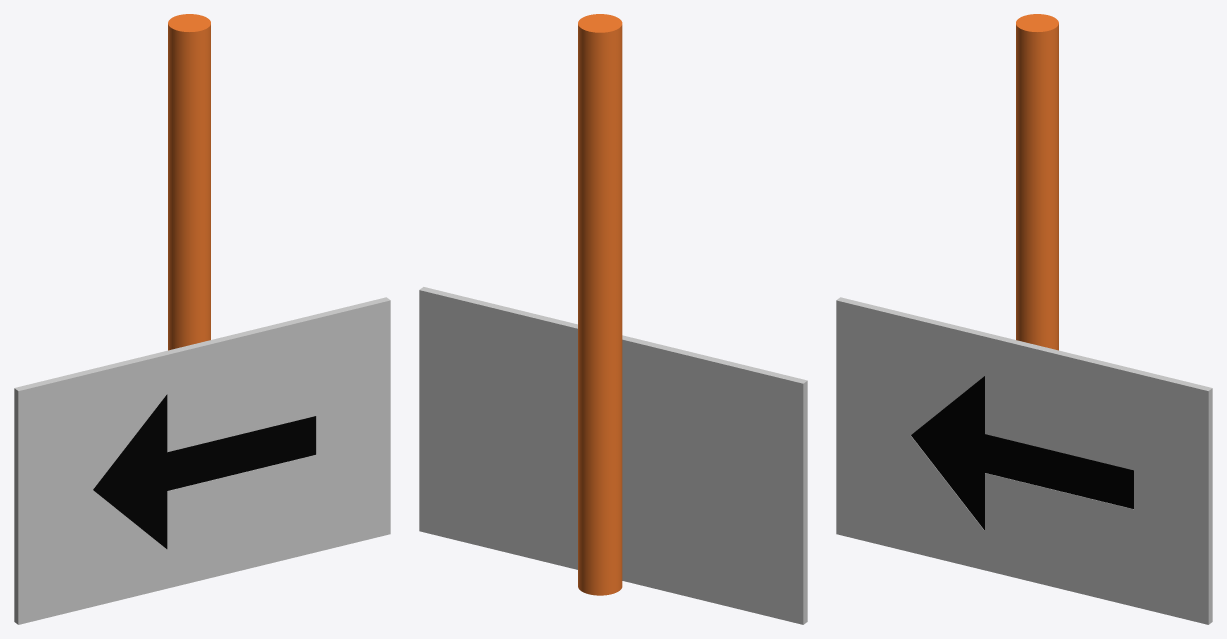
File: arrow.dae
3 renders of one model, left to right at view 1: azimuth 30°, elevation 25°; view 2: azimuth 150°, elevation 25°; view 3: azimuth 330°, elevation 25°, orthographic. The views are drawn at different scales.
Visible parts, largest first — view 1: node_16eac41b_cb2f_4d9d_aa4c_ac223b59d83c_mesh0, node_16eac41b_cb2f_4d9d_aa4c_ac223b59d83c_mesh2, node_16eac41b_cb2f_4d9d_aa4c_ac223b59d83c_mesh1; view 2: node_16eac41b_cb2f_4d9d_aa4c_ac223b59d83c_mesh0, node_16eac41b_cb2f_4d9d_aa4c_ac223b59d83c_mesh2; view 3: node_16eac41b_cb2f_4d9d_aa4c_ac223b59d83c_mesh0, node_16eac41b_cb2f_4d9d_aa4c_ac223b59d83c_mesh2, node_16eac41b_cb2f_4d9d_aa4c_ac223b59d83c_mesh1.
Part boxes in pixels (x1,y1,x2,y2): node_16eac41b_cb2f_4d9d_aa4c_ac223b59d83c_mesh0: (14,297,390,624); node_16eac41b_cb2f_4d9d_aa4c_ac223b59d83c_mesh2: (168,14,210,350); node_16eac41b_cb2f_4d9d_aa4c_ac223b59d83c_mesh1: (93,394,315,548); node_16eac41b_cb2f_4d9d_aa4c_ac223b59d83c_mesh0: (419,287,807,624); node_16eac41b_cb2f_4d9d_aa4c_ac223b59d83c_mesh2: (578,14,622,595); node_16eac41b_cb2f_4d9d_aa4c_ac223b59d83c_mesh0: (836,297,1212,624); node_16eac41b_cb2f_4d9d_aa4c_ac223b59d83c_mesh2: (1016,14,1058,350); node_16eac41b_cb2f_4d9d_aa4c_ac223b59d83c_mesh1: (911,376,1133,530).
Size of the model in its own units: 500 by 59.99 by 700.
